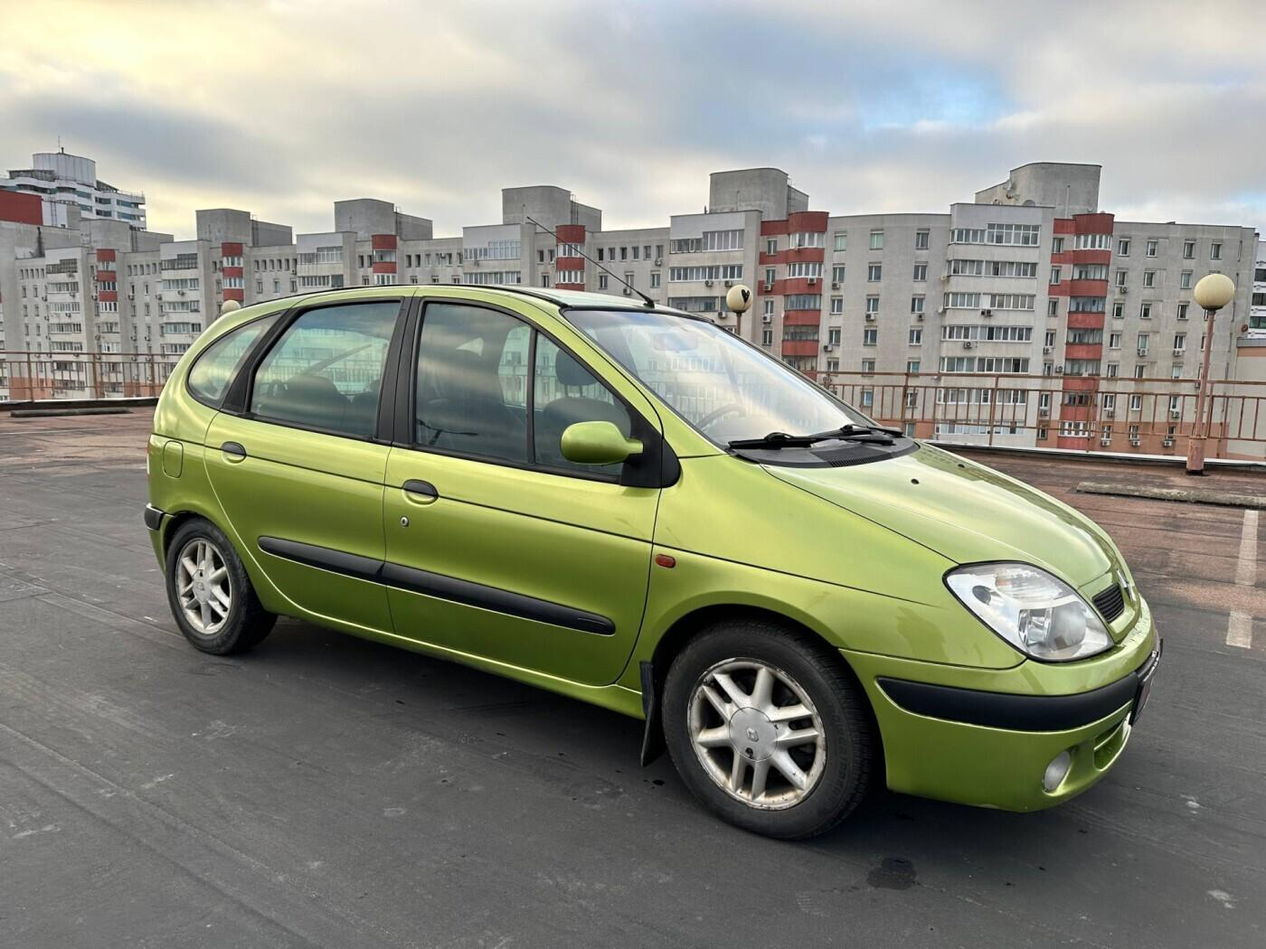Megane_1999-2003: (140, 272, 1161, 843)
